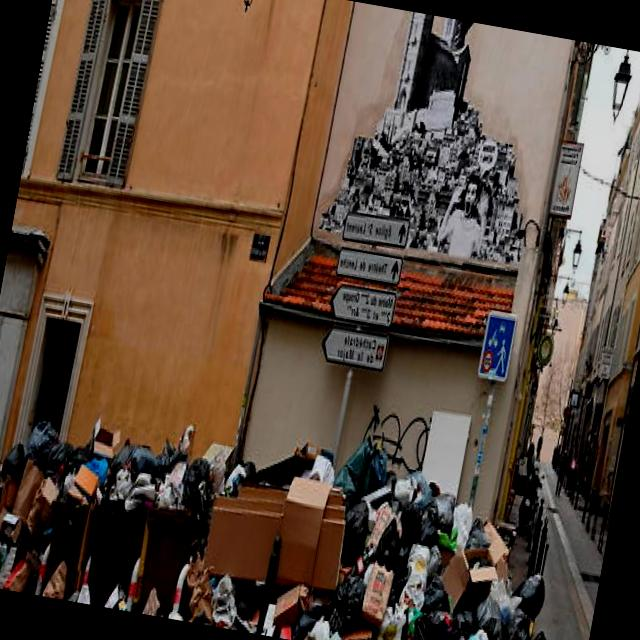garbage: (0, 346, 547, 640)
